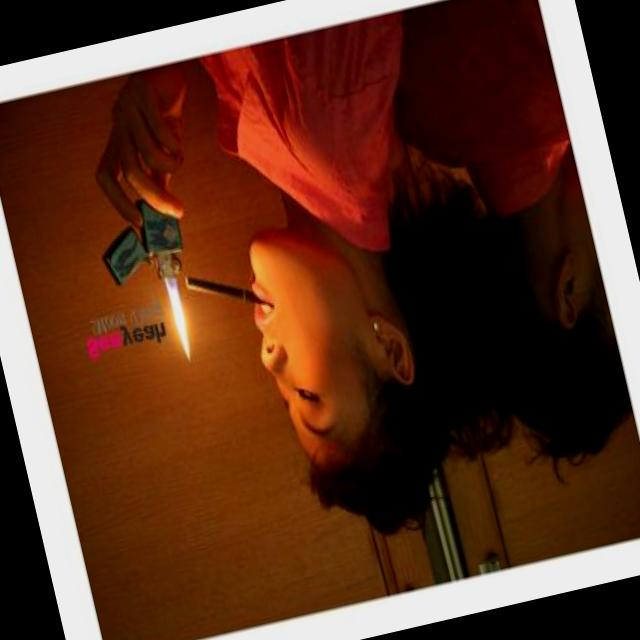smoke: (184, 260, 264, 318)
